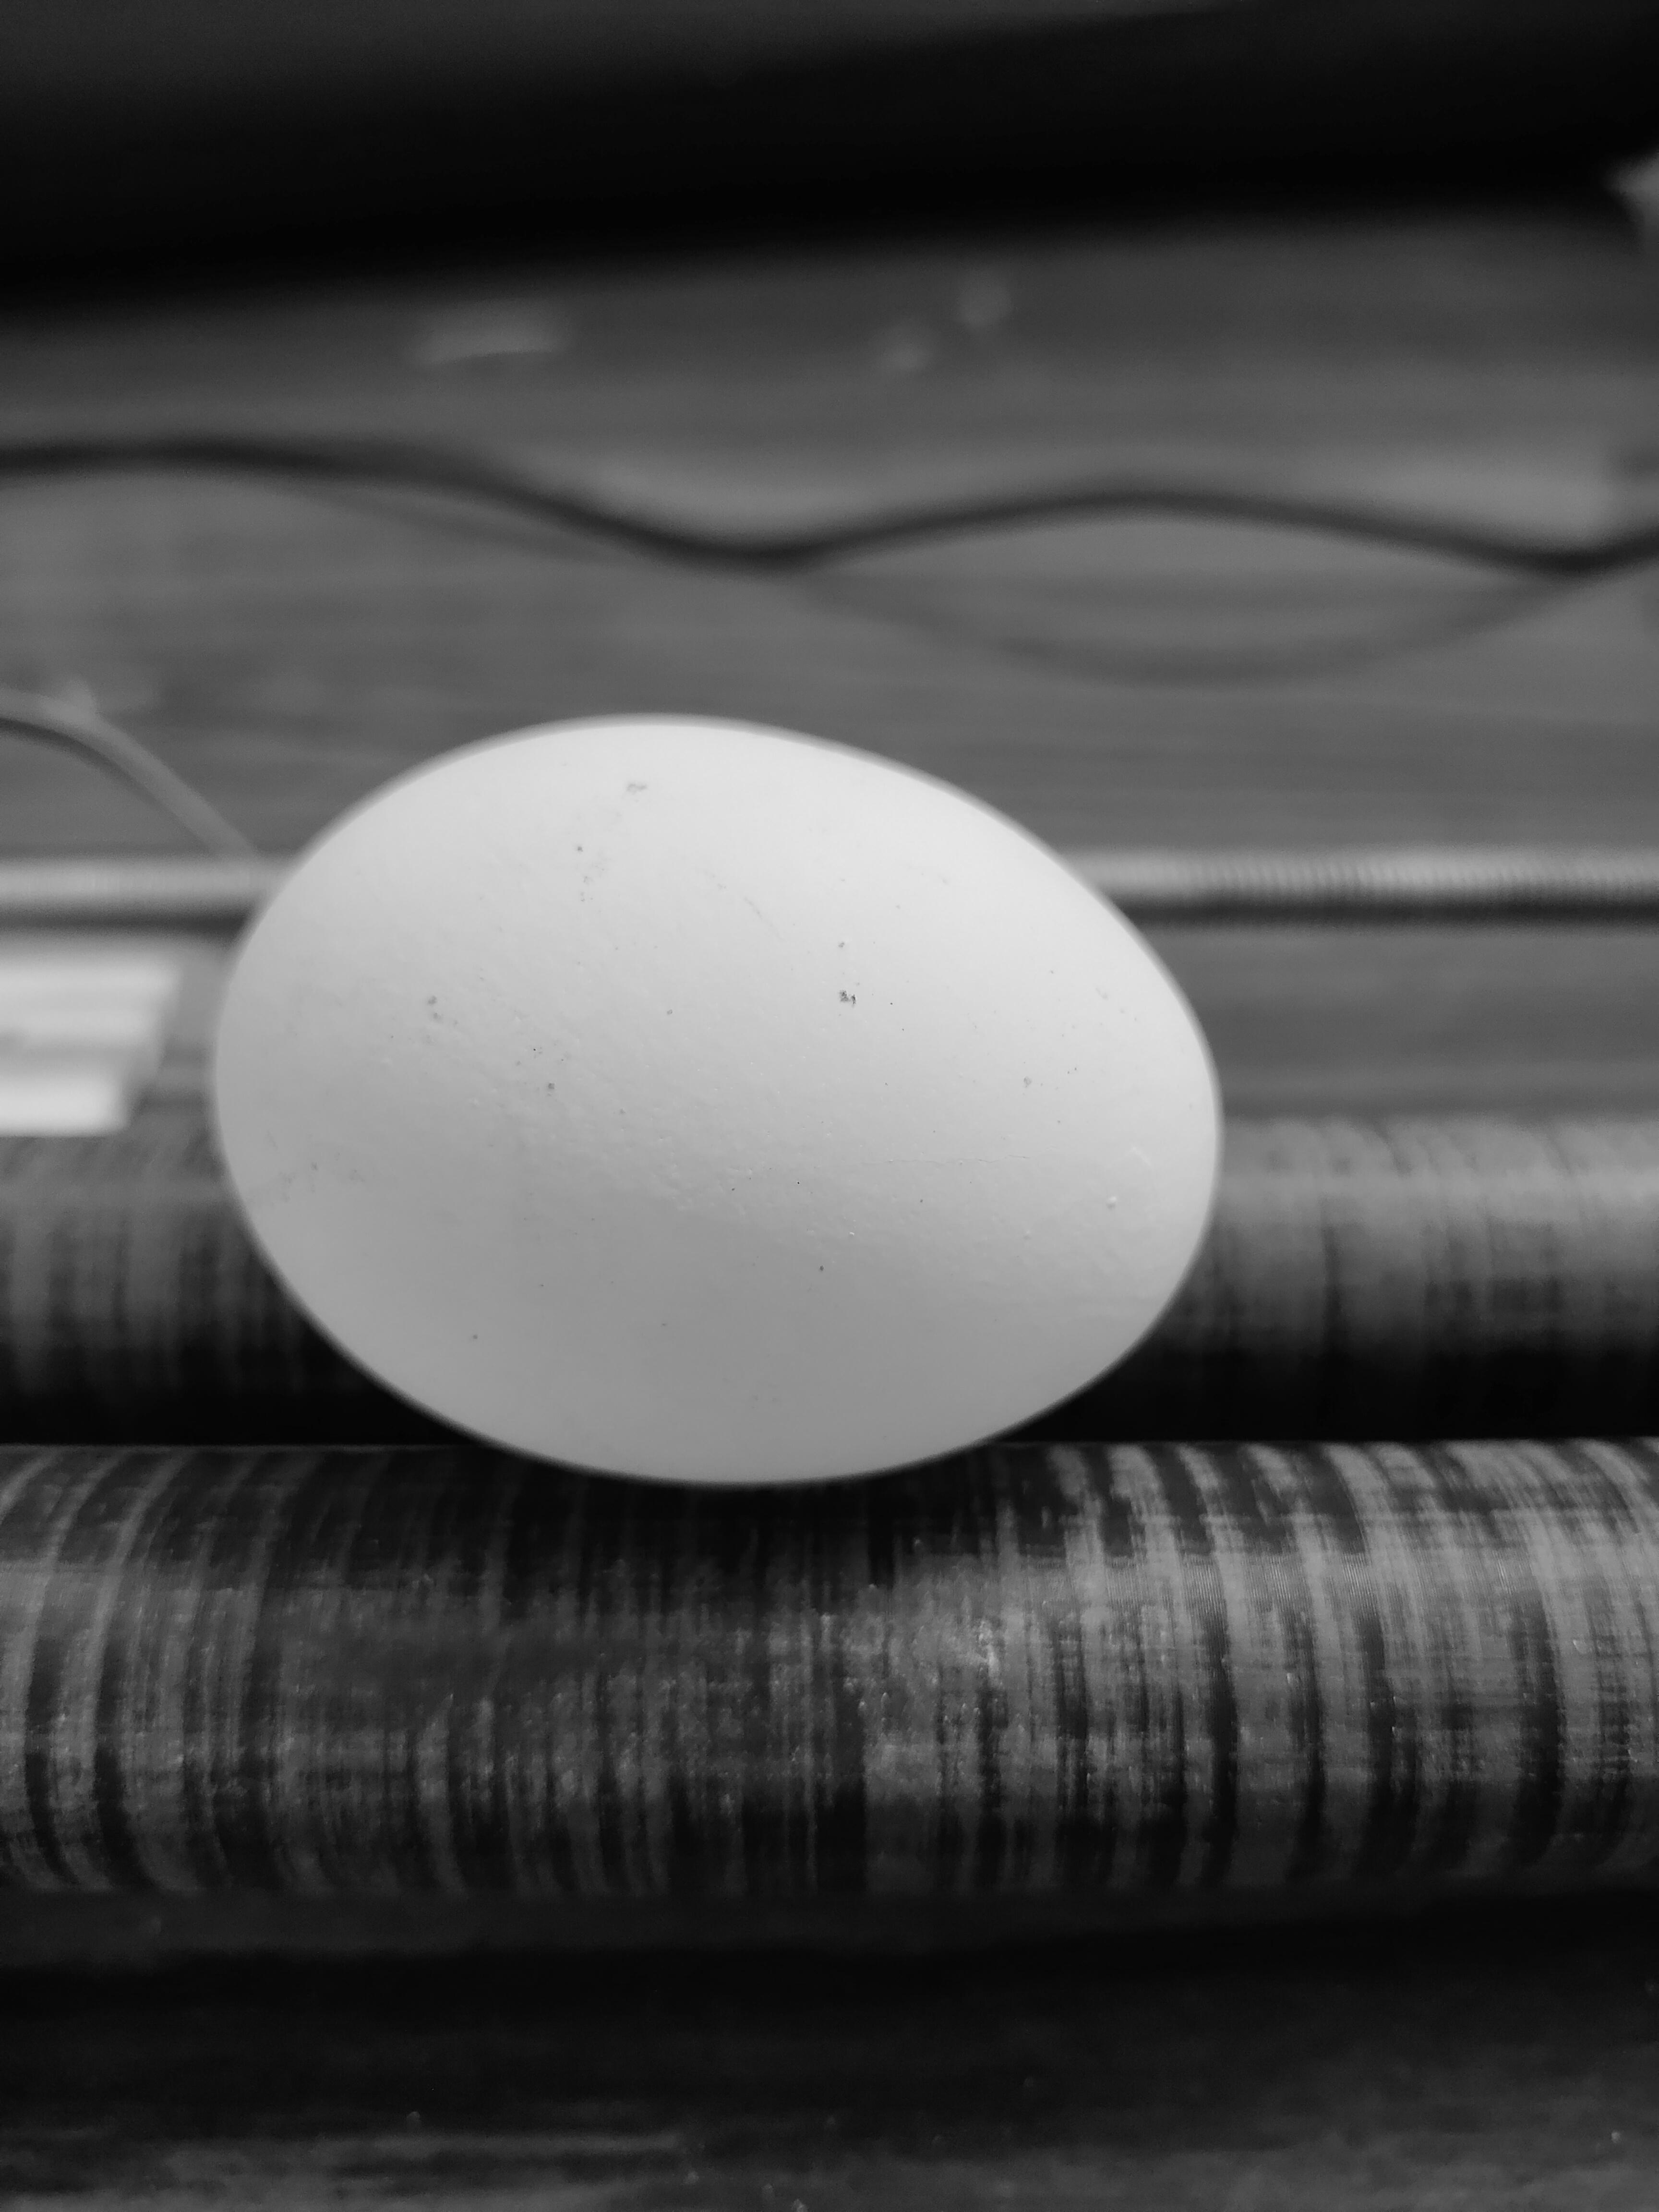telur: (186, 688, 1244, 1522)
